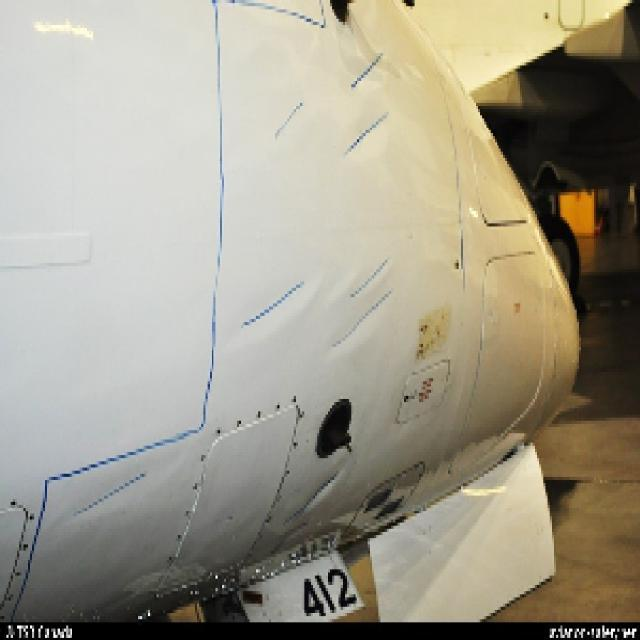dent: (328, 124, 396, 172)
